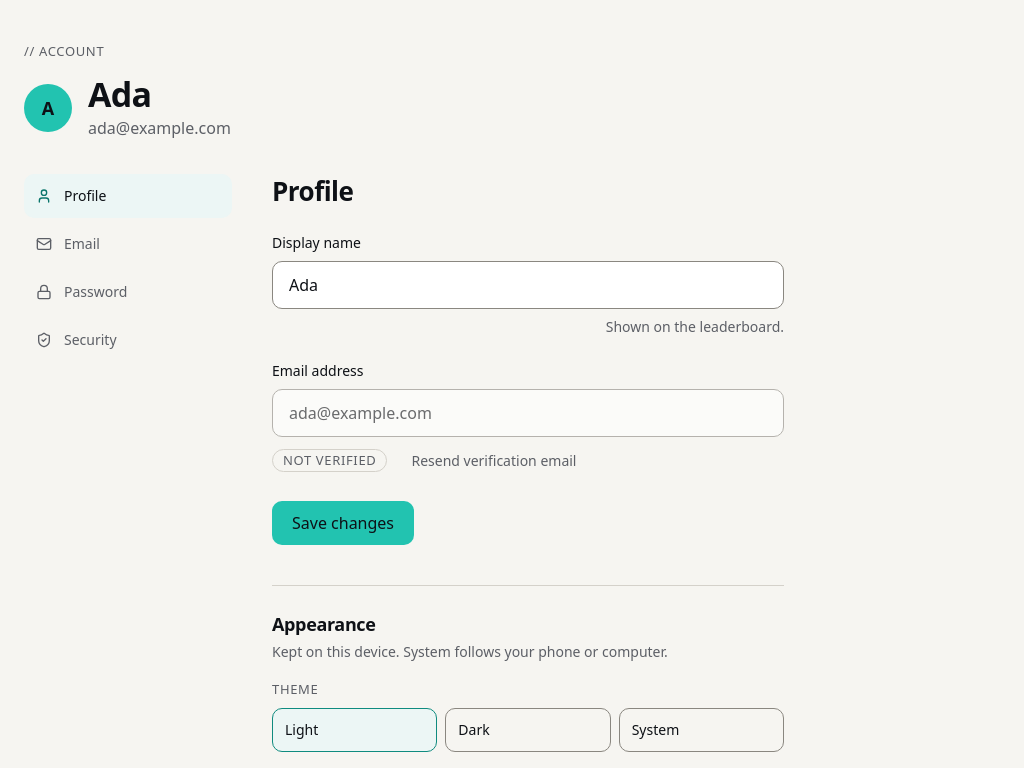
it: Profile page › shows the action's own error message in an alert
Click the button "Save changes". click: (343, 523)
box: [272,501,414,545]
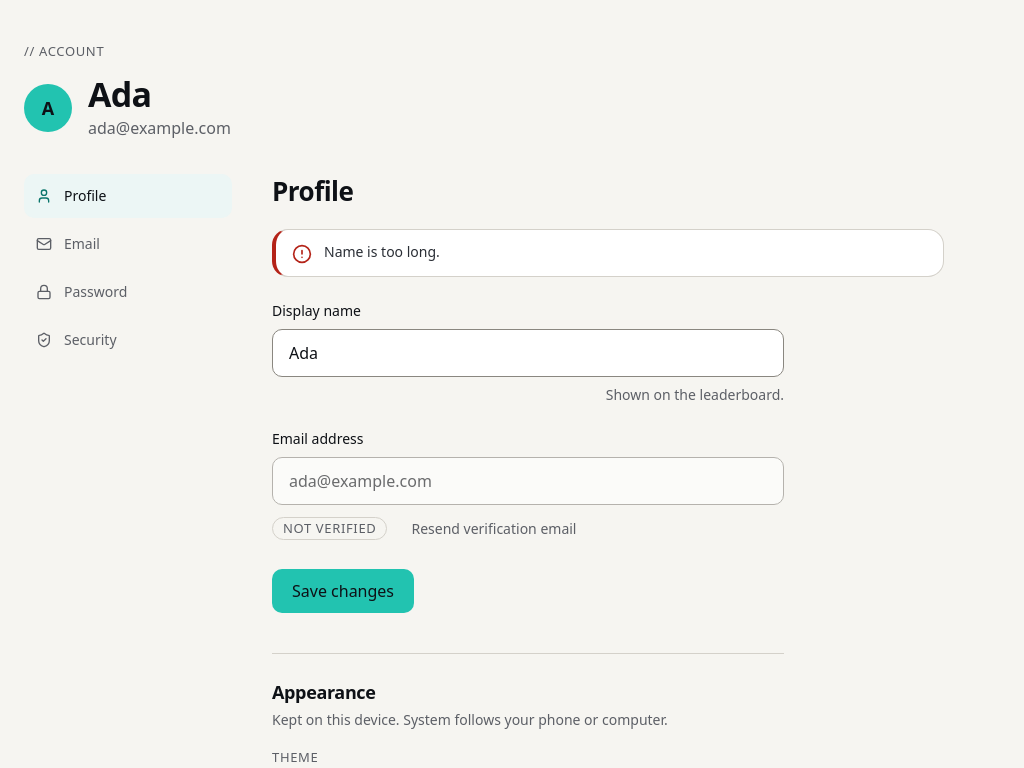
expect the text "Name is too long." is shown: met, box [272,229,944,277]
